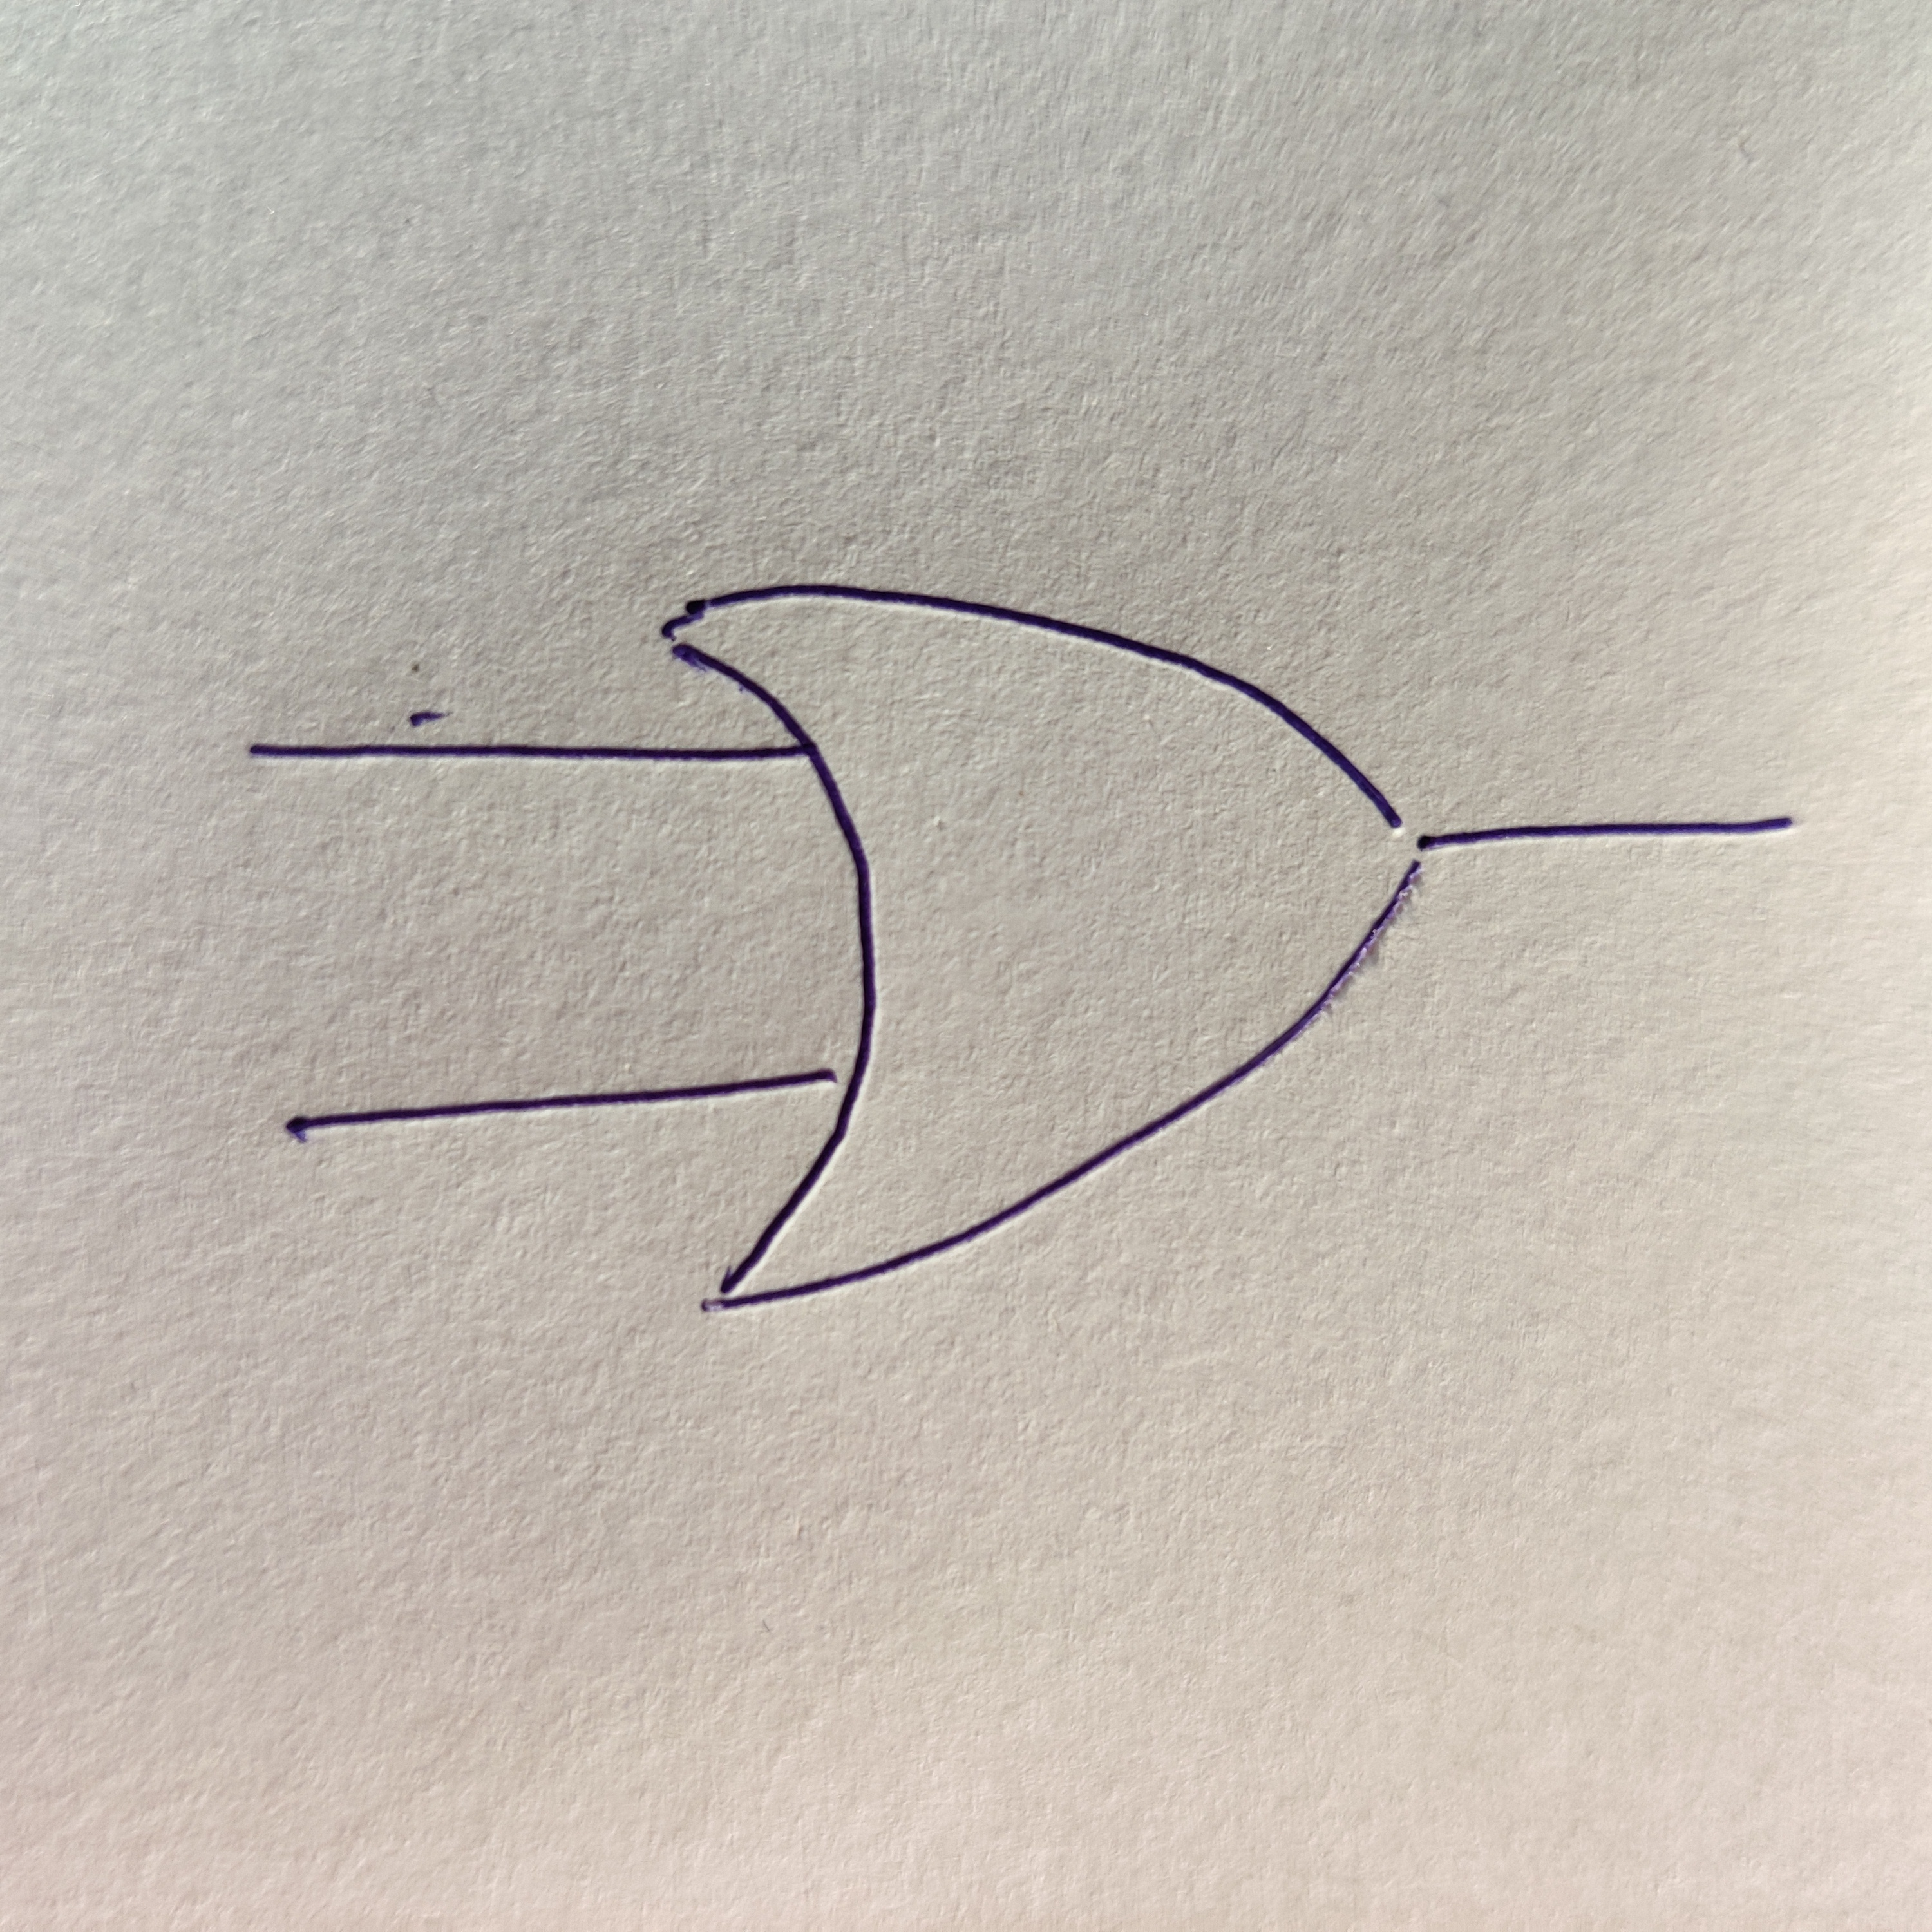or: (663, 584, 1424, 1309)
